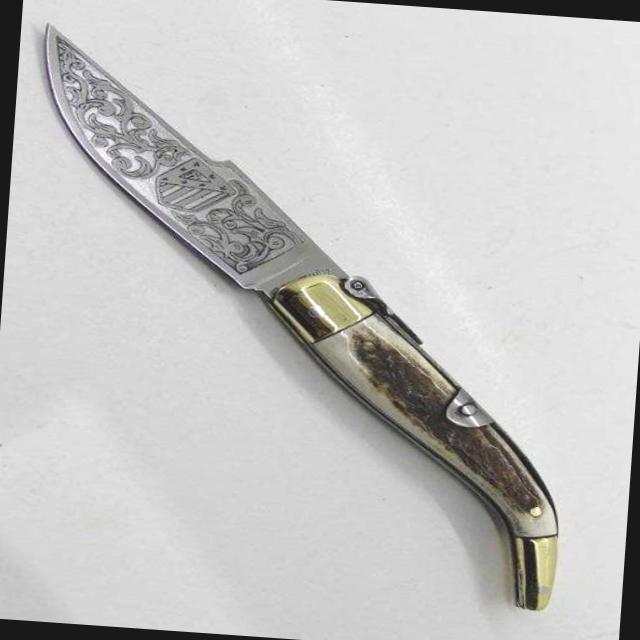knife: (14, 16, 365, 314)
